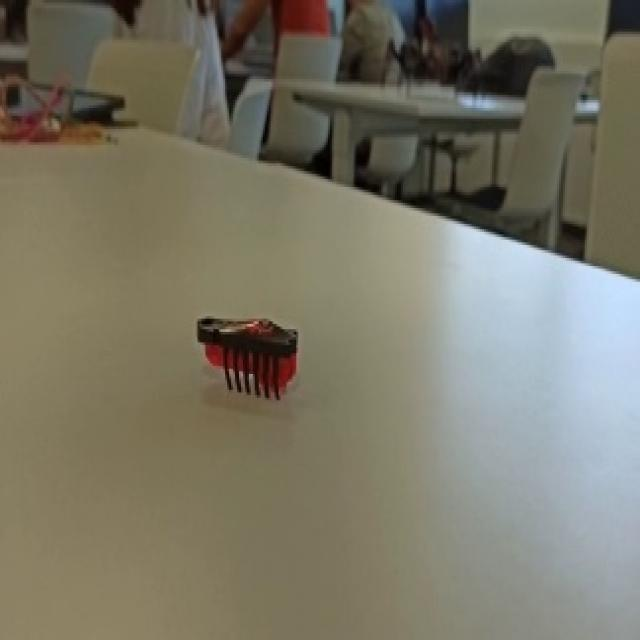2_NanoBug_Negro: (184, 292, 327, 432)
